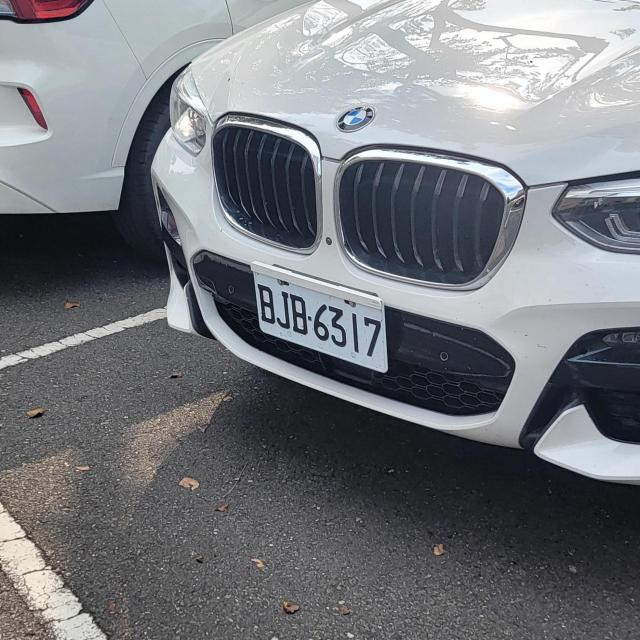W: (252, 269, 392, 378)
